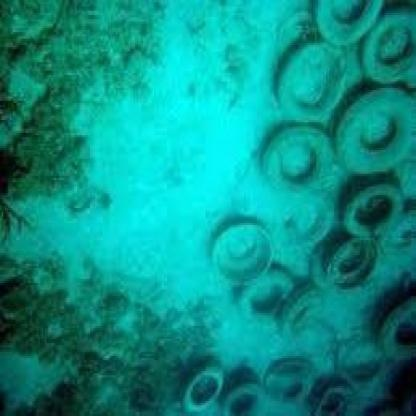tire: (334, 75, 416, 184), (226, 251, 323, 343), (281, 23, 350, 140), (204, 202, 276, 288), (340, 169, 416, 240), (276, 176, 338, 262), (353, 2, 416, 86), (318, 223, 389, 296), (257, 124, 329, 193), (252, 341, 323, 407), (173, 362, 234, 416), (380, 296, 416, 369)
